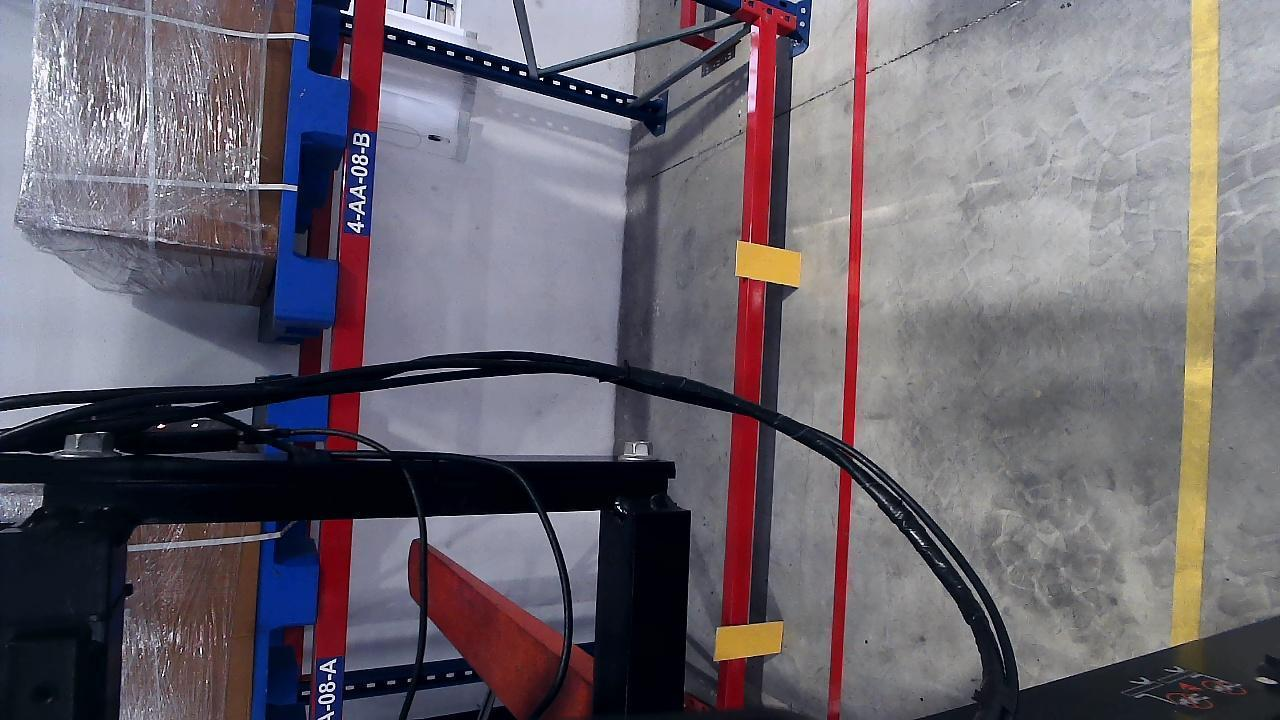red_line: (829, 0, 873, 720)
yellow_line: (1179, 5, 1221, 655)
